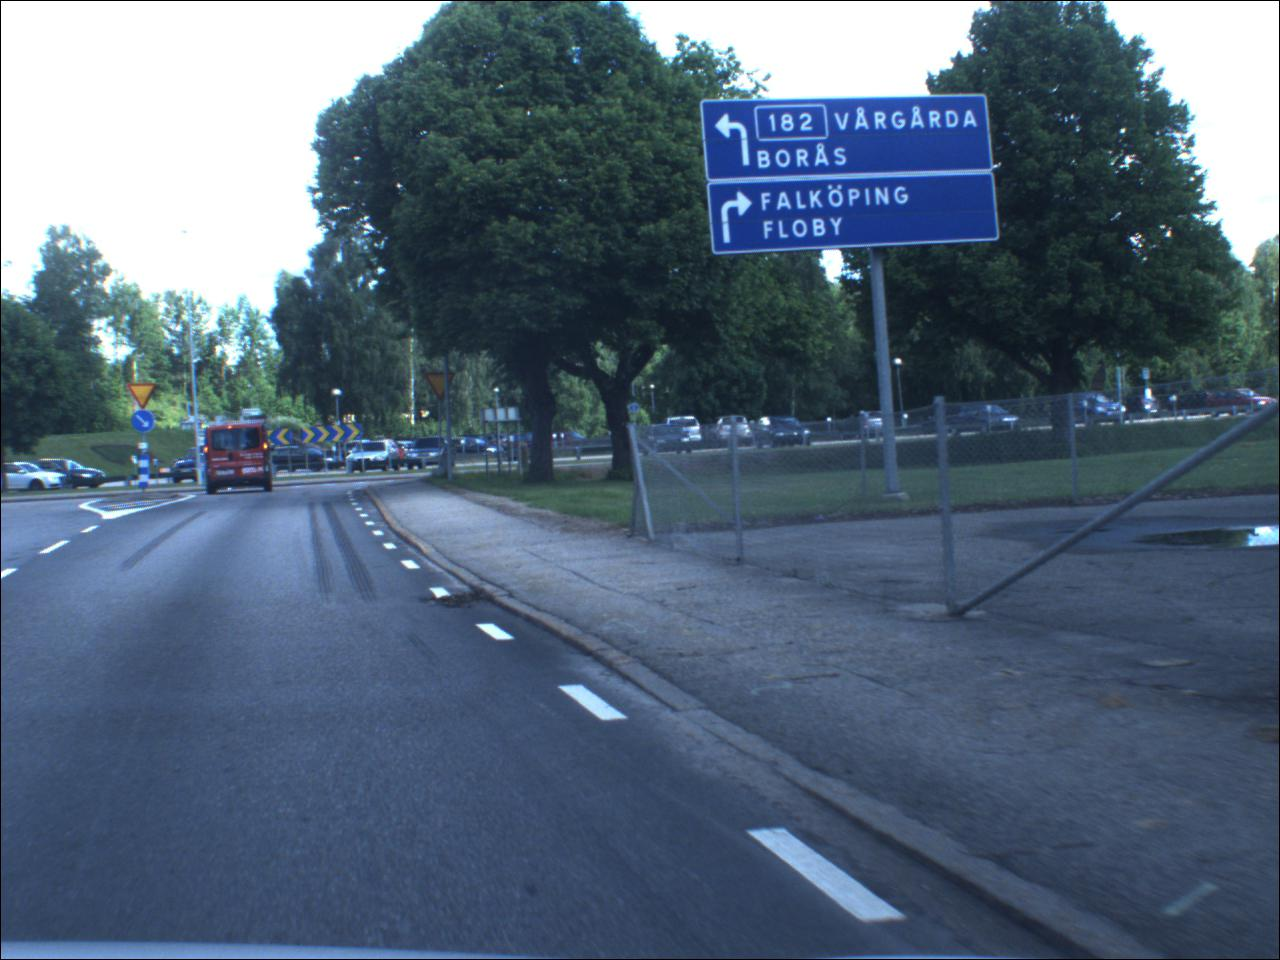GIVE_WAY: (426, 373, 457, 404), (130, 384, 159, 413)
PASS_RIGHT_SIDE: (134, 412, 159, 437)
